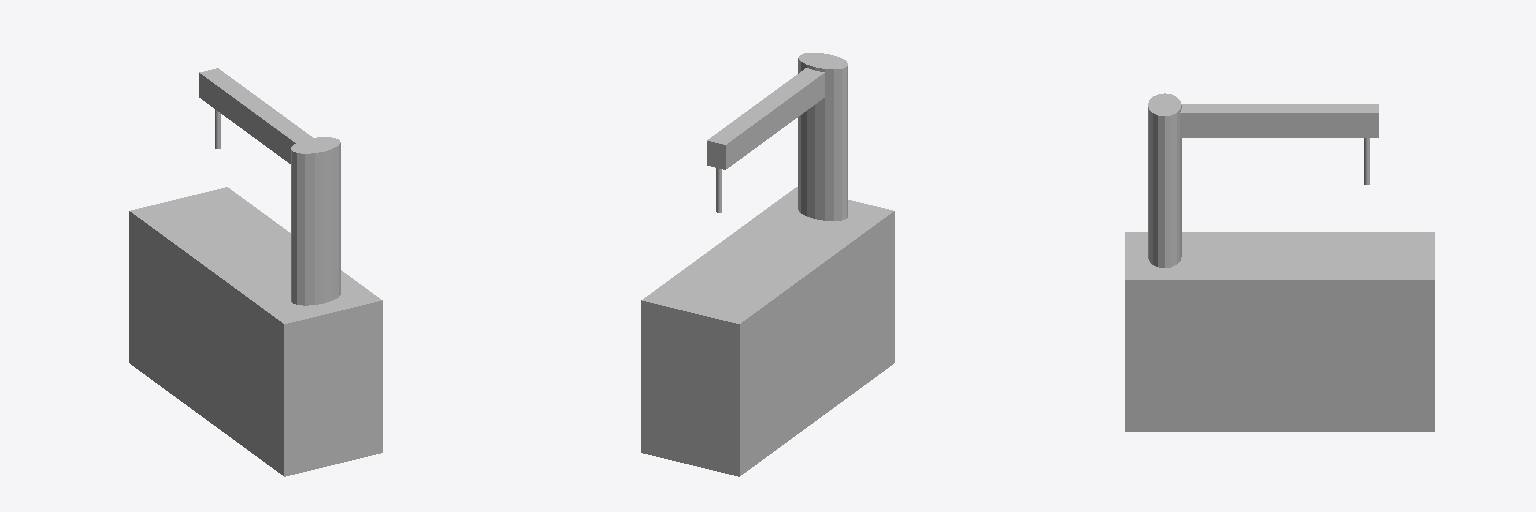
File: workstation.obj
The picture shows the model from 3 angles: view 1: azimuth 30°, elevation 25°; view 2: azimuth 150°, elevation 25°; view 3: azimuth 270°, elevation 25°; orthographic projection.
Parts seen in each view (by area): view 1: cube2, cylinder3, cube5; view 2: cube2, cylinder3, cube5; view 3: cube2, cube5, cylinder3.
Boxes of the visible parts, x1,y1,x2,y2 form: cube2: [129, 187, 382, 476]; cylinder3: [291, 137, 340, 305]; cube5: [199, 68, 312, 163]; cube2: [641, 187, 894, 476]; cylinder3: [798, 53, 847, 220]; cube5: [707, 68, 824, 169]; cube2: [1125, 232, 1434, 431]; cube5: [1180, 104, 1378, 137]; cylinder3: [1148, 93, 1181, 267].
Bounding box in the file's own units: 172 × 511 × 472.